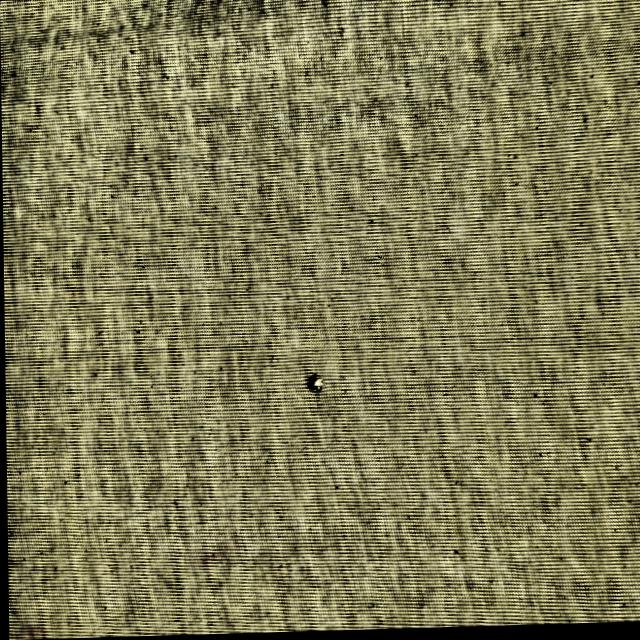Hole: (298, 366, 336, 402)
